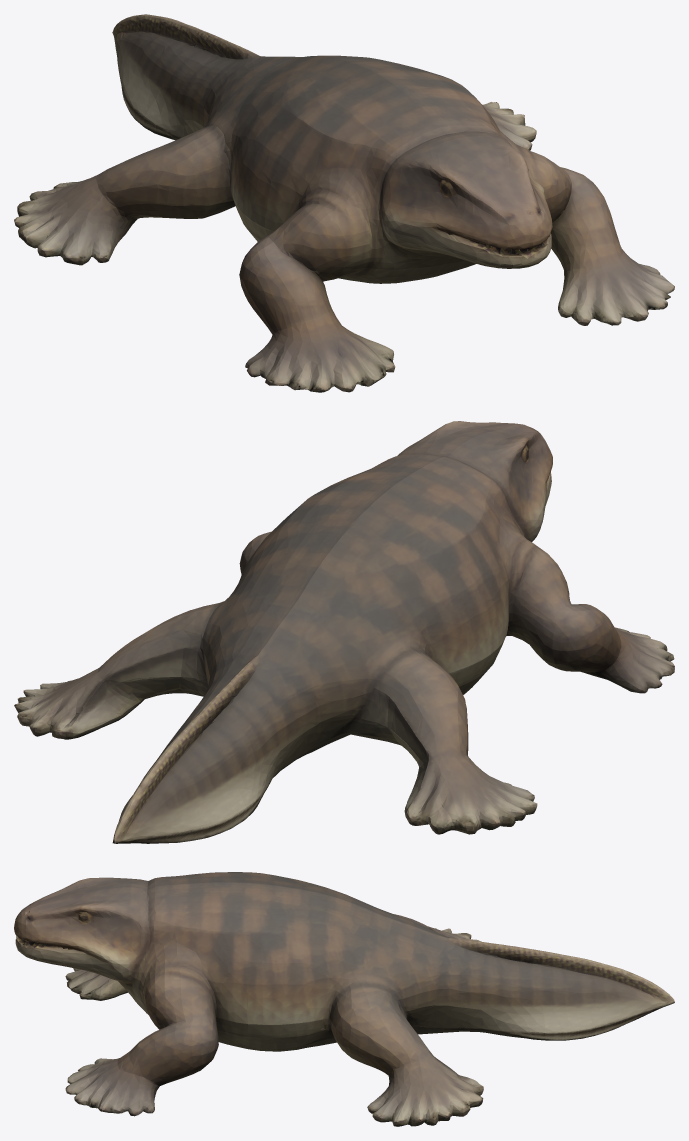
3 renders of one model, top to bottom at view 1: azimuth 30°, elevation 25°; view 2: azimuth 150°, elevation 25°; view 3: azimuth 270°, elevation 25°, orthographic. The views are drawn at different scales.
Visible parts, largest first — view 1: world; view 2: world; view 3: world.
Part boxes in pixels (<box>): world: <box>14,14,674,392</box>; world: <box>14,421,674,843</box>; world: <box>14,872,674,1126</box>.
Size of the model in its own units: 0.6906 by 0.2611 by 0.9986.
Materials: 1 (1 with a texture image).
